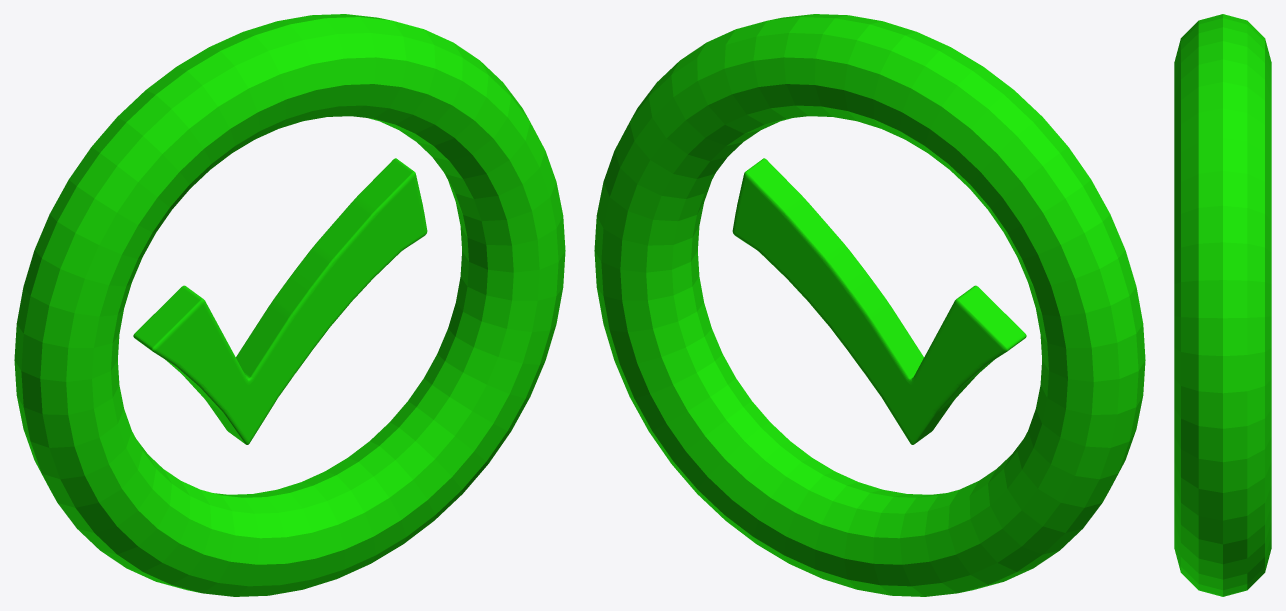
File: checkmark.fbx
3 views of the same model, side by side, from view 1: azimuth 30°, elevation 25°; view 2: azimuth 150°, elevation 25°; view 3: azimuth 270°, elevation 25° (orthographic). The views are drawn at different scales.
Parts seen in each view (by area): view 1: Torus.003, Object_2; view 2: Torus.003, Object_2; view 3: Torus.003.
Boxes of the visible parts, x1,y1,x2,y2 form: Torus.003: (14,14,565,596); Object_2: (133,158,427,444); Torus.003: (594,14,1145,596); Object_2: (732,158,1026,444); Torus.003: (1174,14,1271,596).
Bounding box in the file's own units: 1680 × 1680 × 280.
